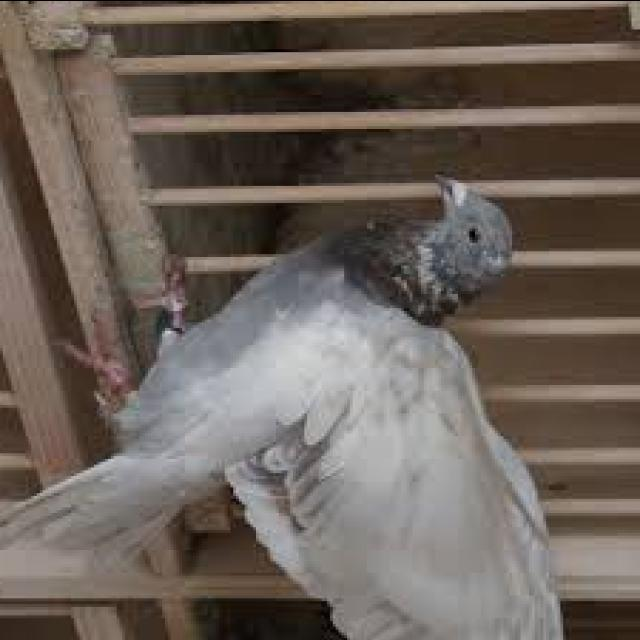pigeon: (9, 171, 604, 640)
